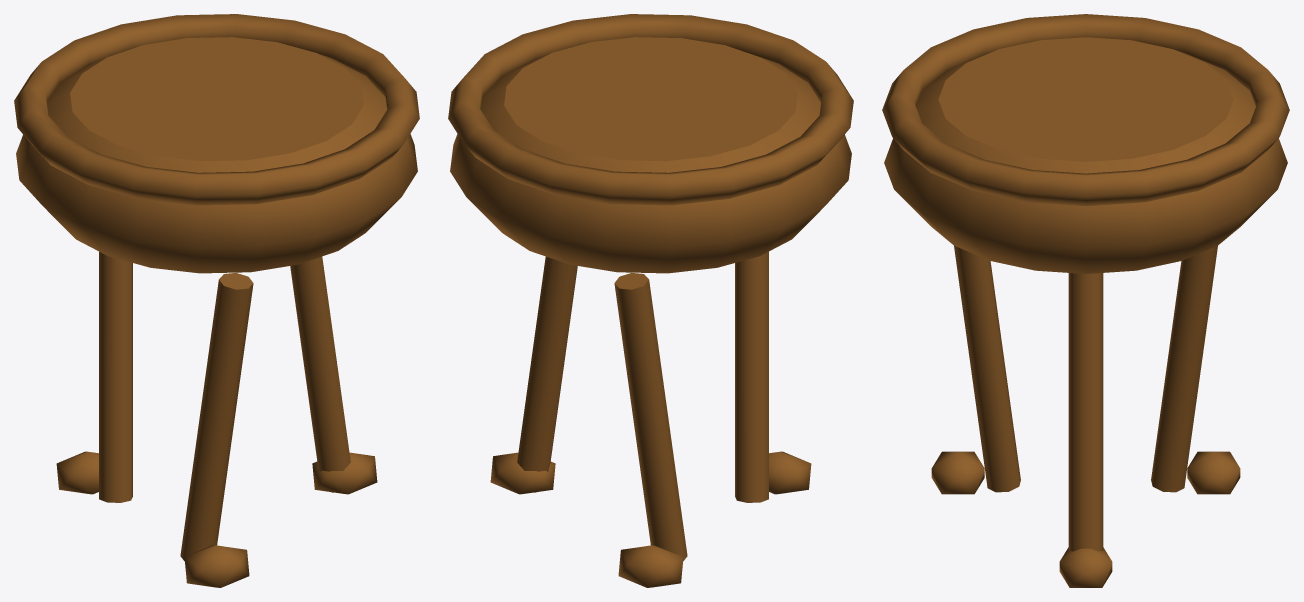
Rendered from decor_tripod_brazier_LOD0.glb.
3 views of the same model, side by side, from view 1: azimuth 30°, elevation 25°; view 2: azimuth 150°, elevation 25°; view 3: azimuth 270°, elevation 25° (orthographic).
Visible parts, largest first — view 1: decor_tripod_brazier_LOD0; view 2: decor_tripod_brazier_LOD0; view 3: decor_tripod_brazier_LOD0.
Part boxes in pixels (x1=…): decor_tripod_brazier_LOD0: x1=14, y1=14, x2=419, y2=587; decor_tripod_brazier_LOD0: x1=448, y1=14, x2=853, y2=587; decor_tripod_brazier_LOD0: x1=882, y1=14, x2=1289, y2=587.
Bounding box in the file's own units: 1.05 × 1.22 × 1.05.
